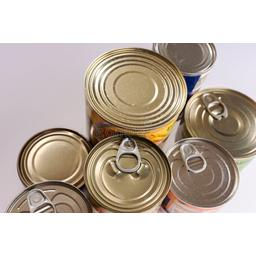metal: (72, 44, 185, 135), (83, 128, 165, 218), (152, 133, 232, 207), (185, 81, 256, 159), (12, 117, 94, 184)
